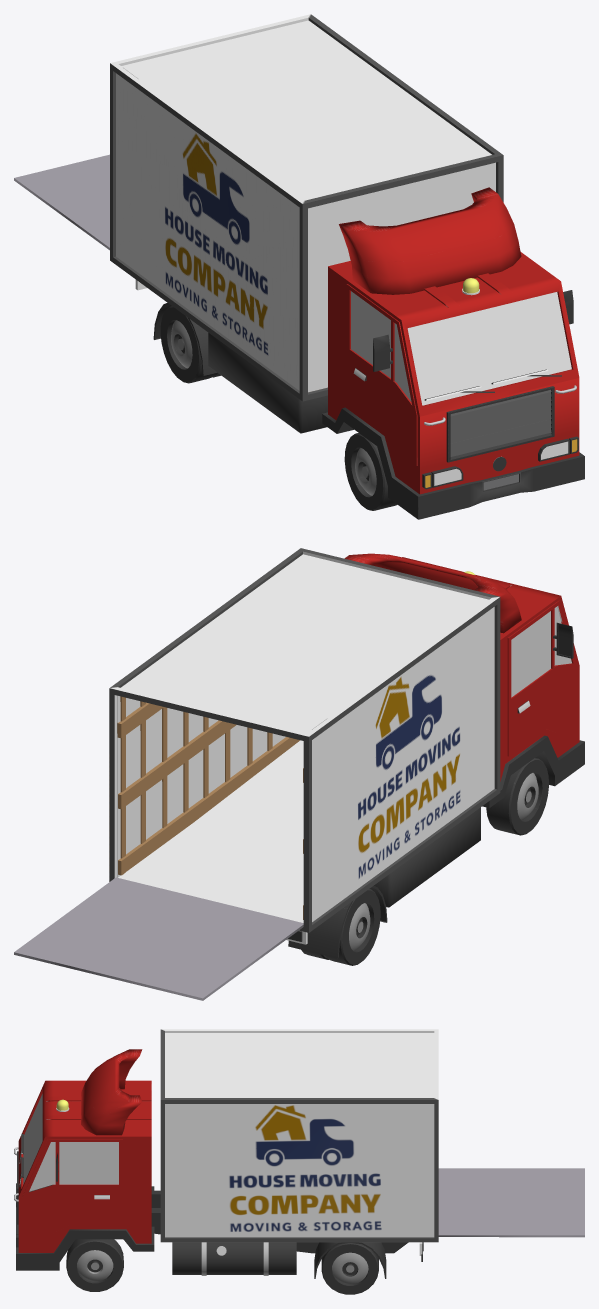
The model's file is Truck_movingcomp.fbx.
3 renders of one model, top to bottom at view 1: azimuth 30°, elevation 25°; view 2: azimuth 150°, elevation 25°; view 3: azimuth 270°, elevation 25°, orthographic. The views are drawn at different scales.
Visible parts, largest first — view 1: back_moving.001, Truckl.001, Window.002; view 2: back_moving.001, Truckl.001, Window.002; view 3: back_moving.001, Truckl.001, Window.002.
Part boxes in pixels (left/top/right/bottom): back_moving.001: left=14, top=14, right=503, bottom=401; Truckl.001: left=135, top=187, right=584, bottom=519; Window.002: left=351, top=291, right=571, bottom=405; back_moving.001: left=14, top=548, right=500, bottom=1000; Truckl.001: left=286, top=553, right=584, bottom=965; Window.002: left=511, top=606, right=571, bottom=697; back_moving.001: left=160, top=1029, right=584, bottom=1242; Truckl.001: left=14, top=1049, right=423, bottom=1294; Window.002: left=23, top=1094, right=118, bottom=1191.
Size of the model in its own units: 201 by 261 by 682.
